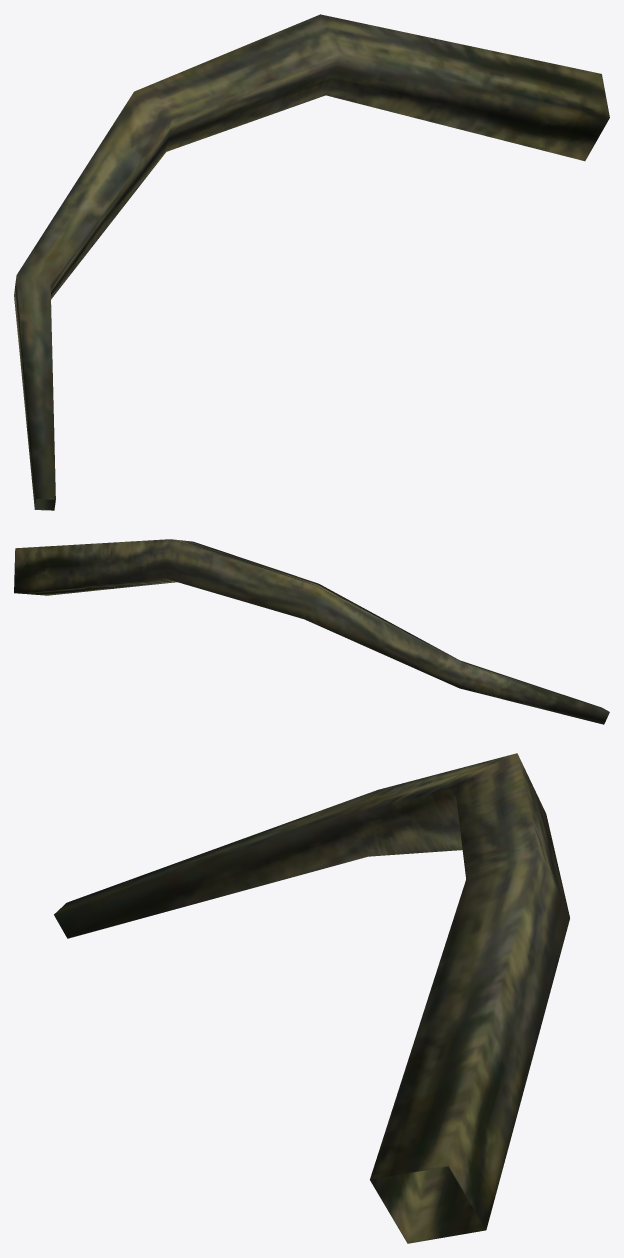
File: OVERHILL_A_01_LINE339.fbx
The picture shows the model from 3 angles, top to bottom: view 1: azimuth 30°, elevation 25°; view 2: azimuth 150°, elevation 25°; view 3: azimuth 270°, elevation 25°; orthographic projection. The views are drawn at different scales.
Parts seen in each view (by area): view 1: OVERHILL_A_01_LINE339; view 2: OVERHILL_A_01_LINE339; view 3: OVERHILL_A_01_LINE339.
Part boxes in pixels (x1,y1,x2,y2): OVERHILL_A_01_LINE339: (14,14,609,510); OVERHILL_A_01_LINE339: (14,539,609,724); OVERHILL_A_01_LINE339: (54,753,569,1243).
Bounding box in the file's own units: 12590 × 4642 × 5639.
Materials: 1 (1 with a texture image).
